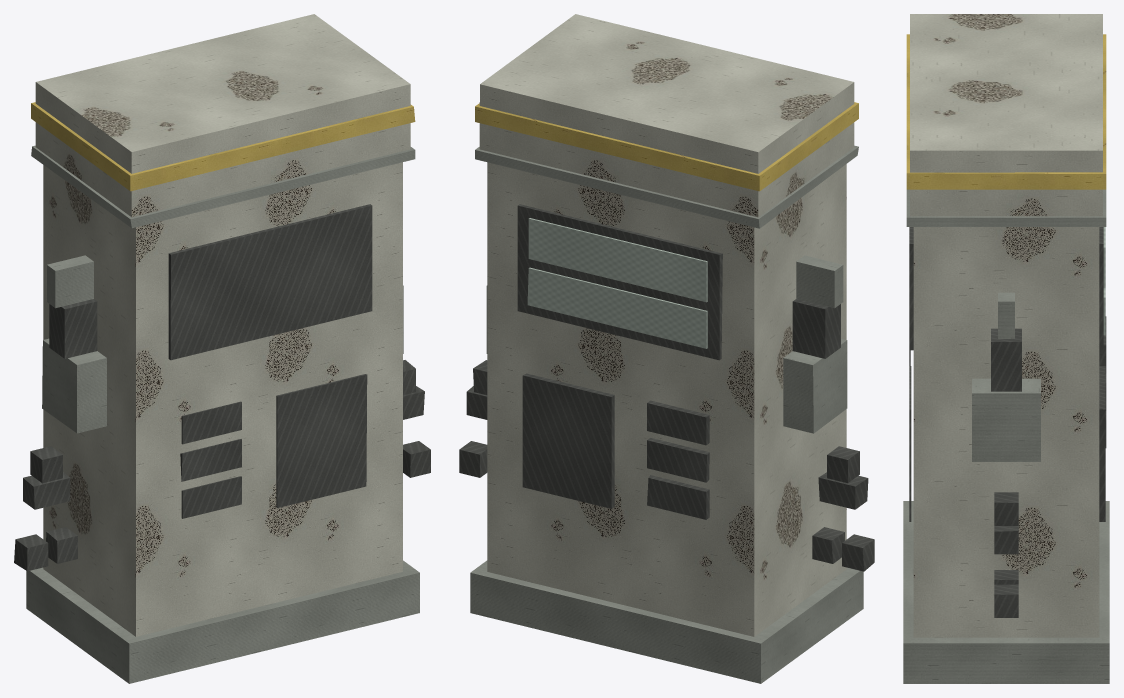
Rendered from pump_v3.glb.
3 renders of one model, left to right at view 1: azimuth 30°, elevation 25°; view 2: azimuth 150°, elevation 25°; view 3: azimuth 270°, elevation 25°, orthographic.
Parts seen in each view (by area): view 1: Variant_pump_3; view 2: Variant_pump_3; view 3: Variant_pump_3.
Boxes of the visible parts, x1,y1,x2,y2 form: Variant_pump_3: (14, 14, 430, 683); Variant_pump_3: (459, 14, 874, 683); Variant_pump_3: (903, 14, 1109, 683).
Bounding box in the file's own units: 1.36 × 1.7 × 0.6.
5 materials, 5 textured.
